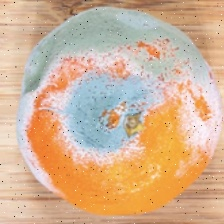orange: (37, 26, 213, 198)
